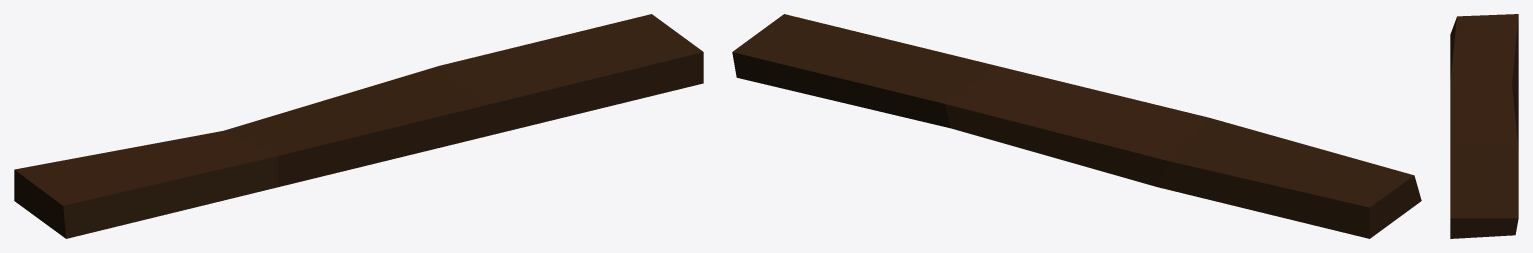
File: woodPiece_type_04.fbx
3 renders of one model, left to right at view 1: azimuth 30°, elevation 25°; view 2: azimuth 150°, elevation 25°; view 3: azimuth 270°, elevation 25°, orthographic. The views are drawn at different scales.
Parts seen in each view (by area): view 1: woodPiece_type_04; view 2: woodPiece_type_04; view 3: woodPiece_type_04.
Boxes of the visible parts, box(x1,y1,x2,y2) form: woodPiece_type_04: box(14, 14, 703, 238); woodPiece_type_04: box(732, 14, 1421, 238); woodPiece_type_04: box(1450, 14, 1518, 238).
Size of the model in its own units: 128 by 6 by 18.
